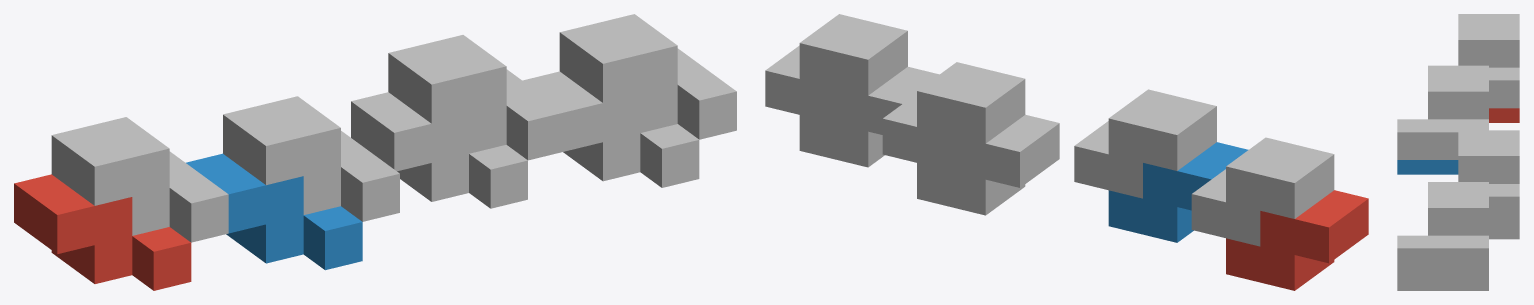
The model's file is tiling.obj.
The picture shows the model from 3 angles, left to right: view 1: azimuth 30°, elevation 25°; view 2: azimuth 150°, elevation 25°; view 3: azimuth 270°, elevation 25°; orthographic projection. The views are drawn at different scales.
Visible parts, largest first — view 1: copy_1_domain_8, copy_1_domain_3, copy_1_domain_7, copy_1_domain_4, copy_1_domain_1, copy_1_domain_5, copy_1_domain_6, copy_1_domain_2; view 2: copy_1_domain_3, copy_1_domain_7, copy_1_domain_8, copy_1_domain_4, copy_1_domain_1, copy_1_domain_5, copy_1_domain_6, copy_1_domain_2; view 3: copy_1_domain_8, copy_1_domain_4, copy_1_domain_3, copy_1_domain_7, copy_1_domain_6, copy_1_domain_2, copy_1_domain_5, copy_1_domain_1.
Boxes of the visible parts, bbox=[...] form: copy_1_domain_8: bbox=[559, 14, 736, 139]; copy_1_domain_3: bbox=[51, 117, 228, 242]; copy_1_domain_7: bbox=[388, 35, 565, 160]; copy_1_domain_4: bbox=[223, 96, 399, 221]; copy_1_domain_1: bbox=[14, 174, 191, 290]; copy_1_domain_5: bbox=[351, 92, 527, 208]; copy_1_domain_6: bbox=[522, 71, 699, 187]; copy_1_domain_2: bbox=[186, 153, 362, 270]; copy_1_domain_3: bbox=[1191, 137, 1334, 246]; copy_1_domain_7: bbox=[882, 62, 1025, 170]; copy_1_domain_8: bbox=[765, 14, 907, 123]; copy_1_domain_4: bbox=[1074, 89, 1216, 198]; copy_1_domain_1: bbox=[1226, 190, 1368, 290]; copy_1_domain_5: bbox=[917, 114, 1059, 215]; copy_1_domain_6: bbox=[799, 67, 939, 167]; copy_1_domain_2: bbox=[1108, 142, 1248, 242]; copy_1_domain_8: bbox=[1397, 182, 1488, 276]; copy_1_domain_4: bbox=[1397, 65, 1488, 159]; copy_1_domain_3: bbox=[1458, 14, 1519, 108]; copy_1_domain_7: bbox=[1458, 130, 1519, 224]; copy_1_domain_6: bbox=[1397, 276, 1488, 290]; copy_1_domain_2: bbox=[1397, 160, 1458, 174]; copy_1_domain_5: bbox=[1489, 224, 1519, 239]; copy_1_domain_1: bbox=[1489, 108, 1519, 122].
Size of the model in its own units: 17 by 3 by 4.
